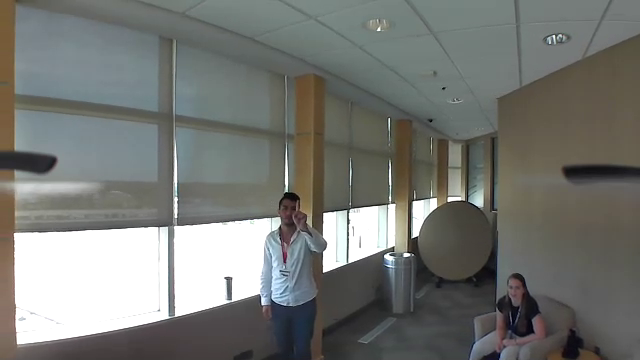up: (290, 199, 311, 228)
